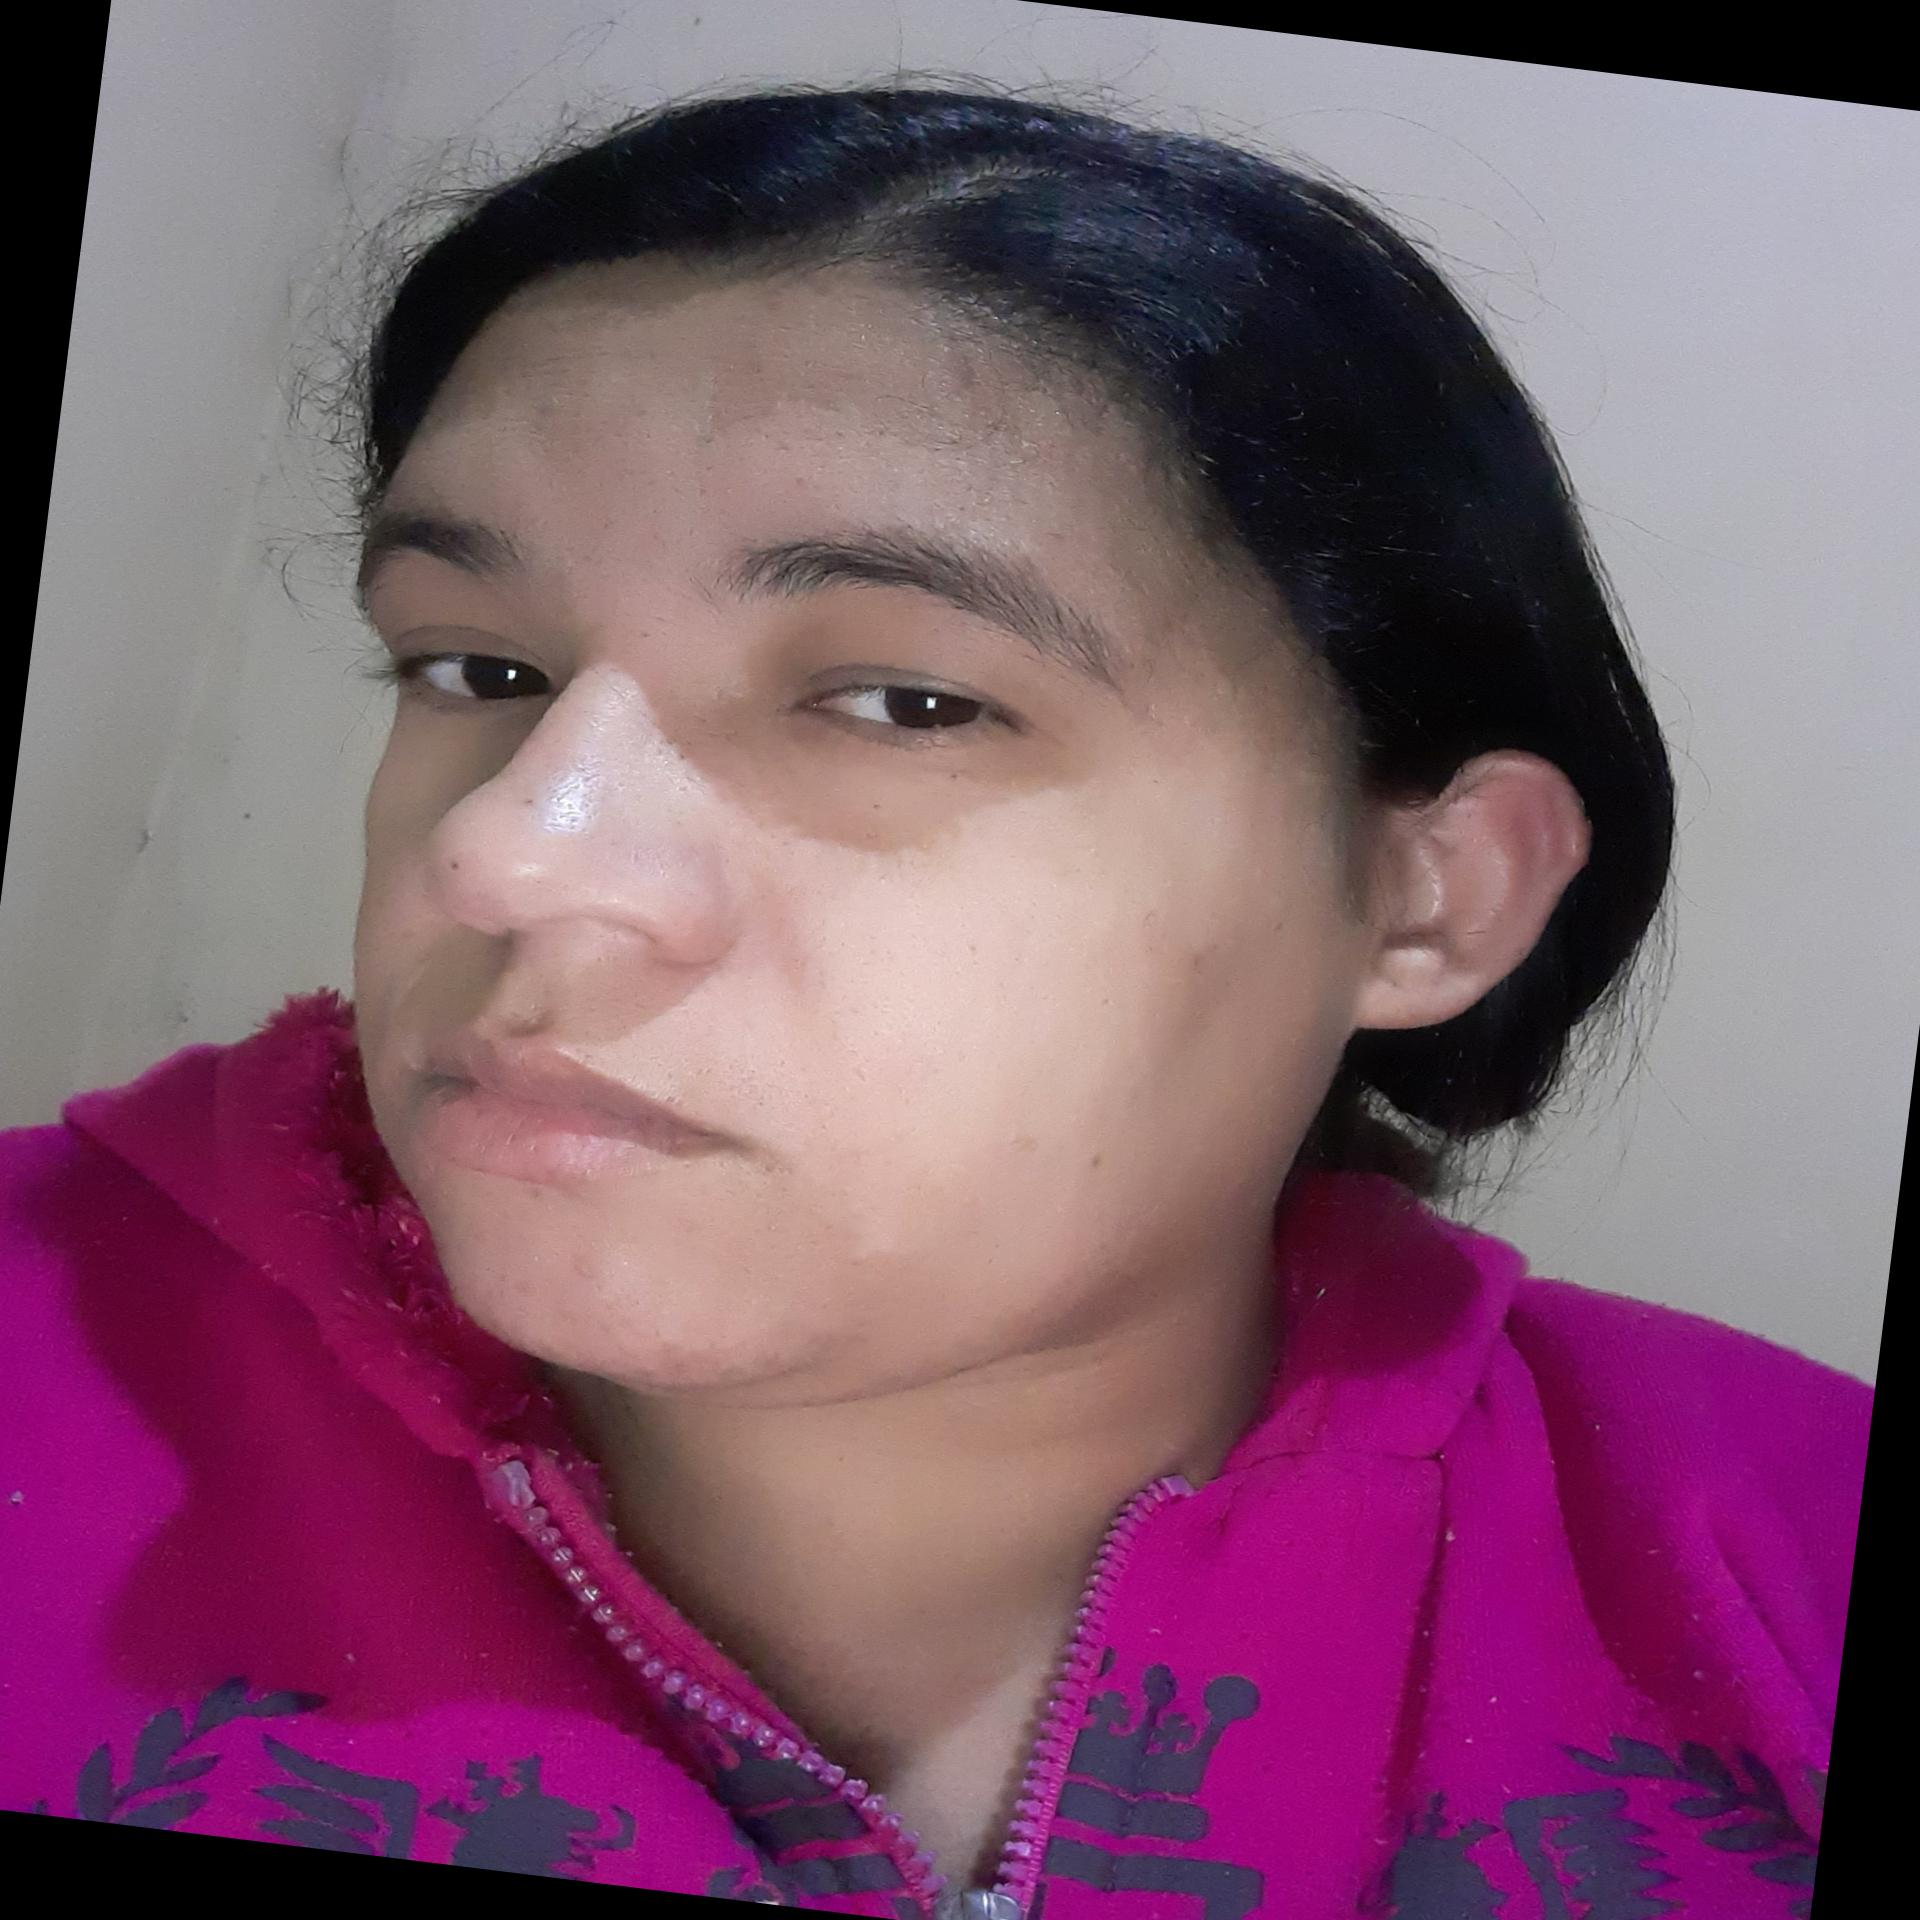Acne: (624, 1319, 765, 1384), (554, 1245, 628, 1294), (508, 1182, 570, 1218), (482, 1269, 542, 1305)
Englarged Pores: (654, 438, 832, 522), (538, 742, 659, 862), (816, 983, 951, 1088), (561, 406, 661, 492)
